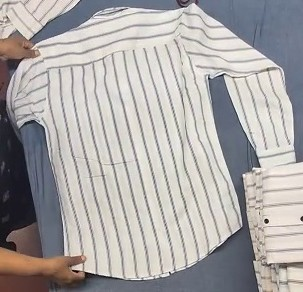SHIRT: (31, 28, 265, 281)
